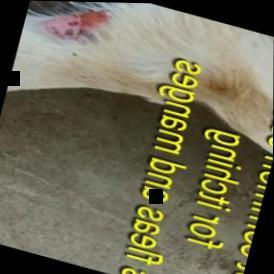skin_lesions: (37, 1, 116, 56)
